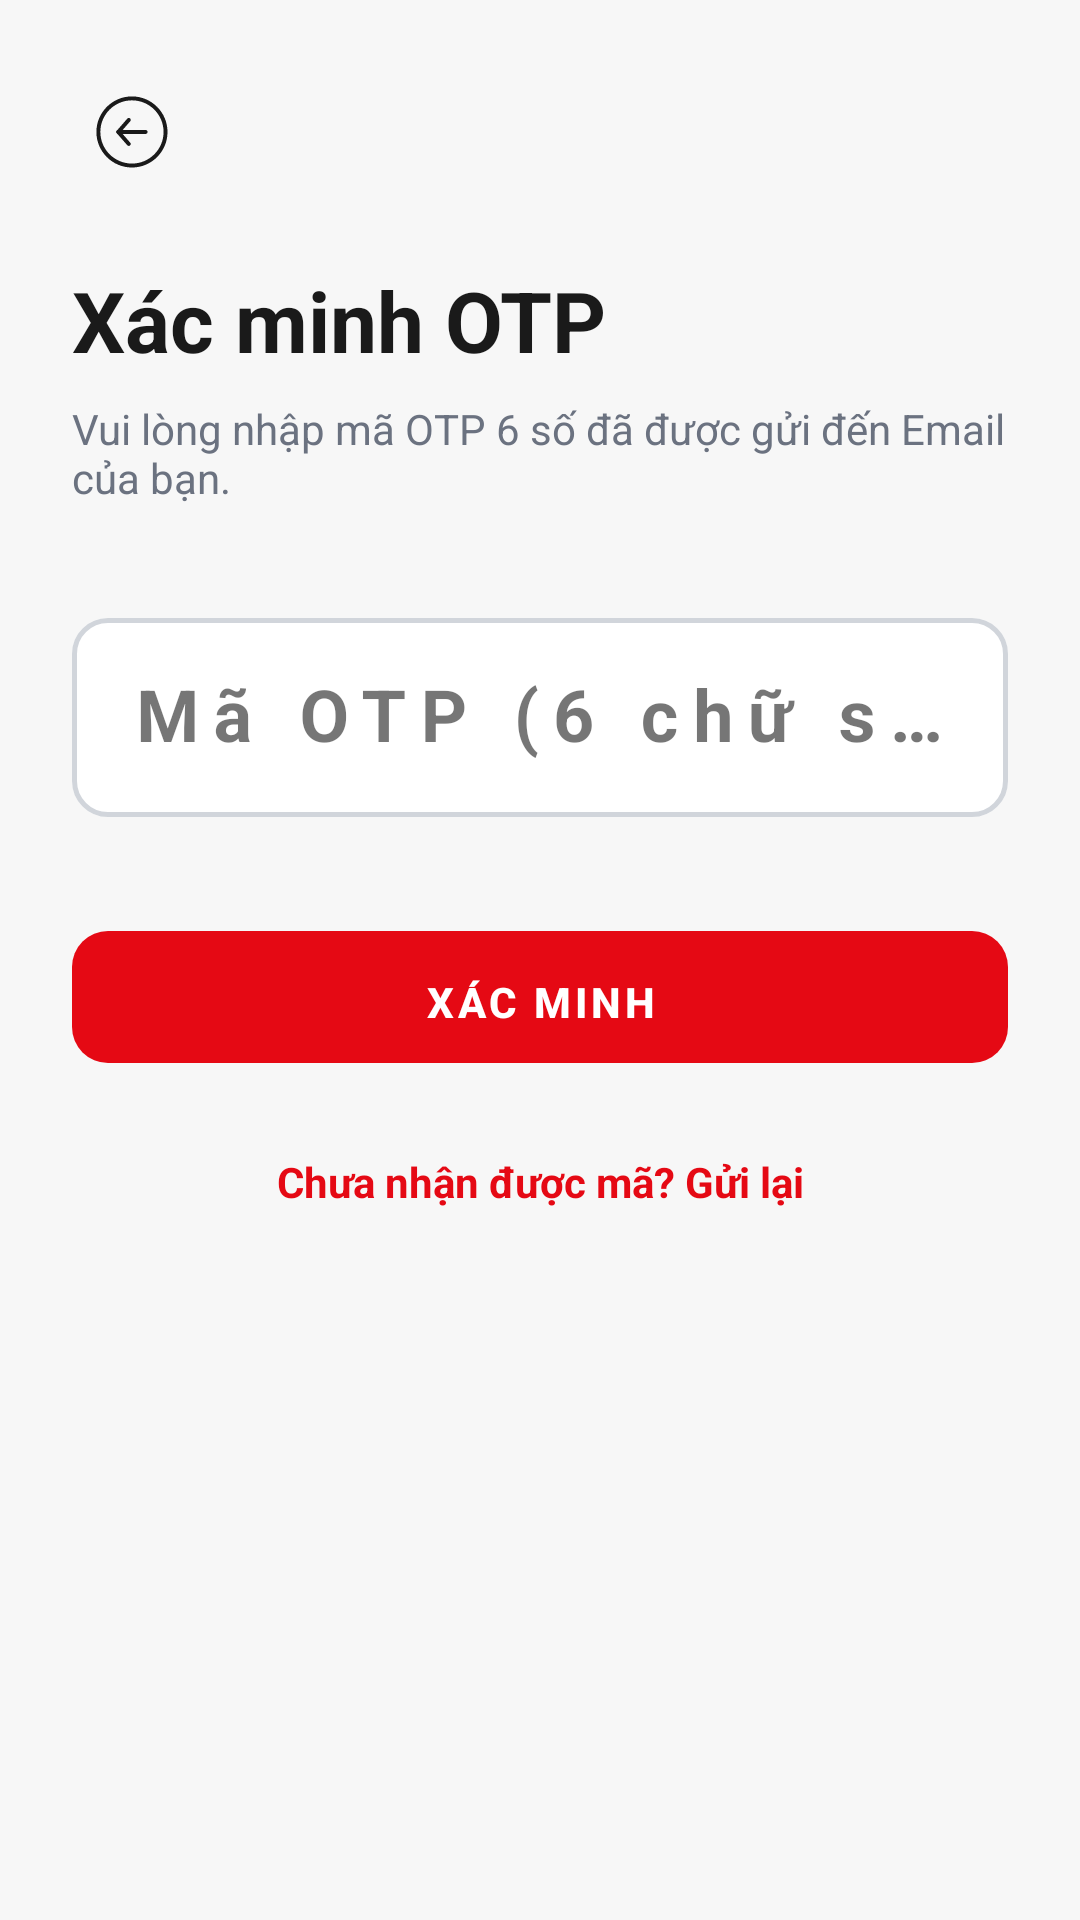

Icons on this 1080 × 1920 Android screen, each with its box as {"x1": x1, "y1": y1, "x2": x2, "y2": y2}:
back: {"x1": 96, "y1": 96, "x2": 168, "y2": 168}
